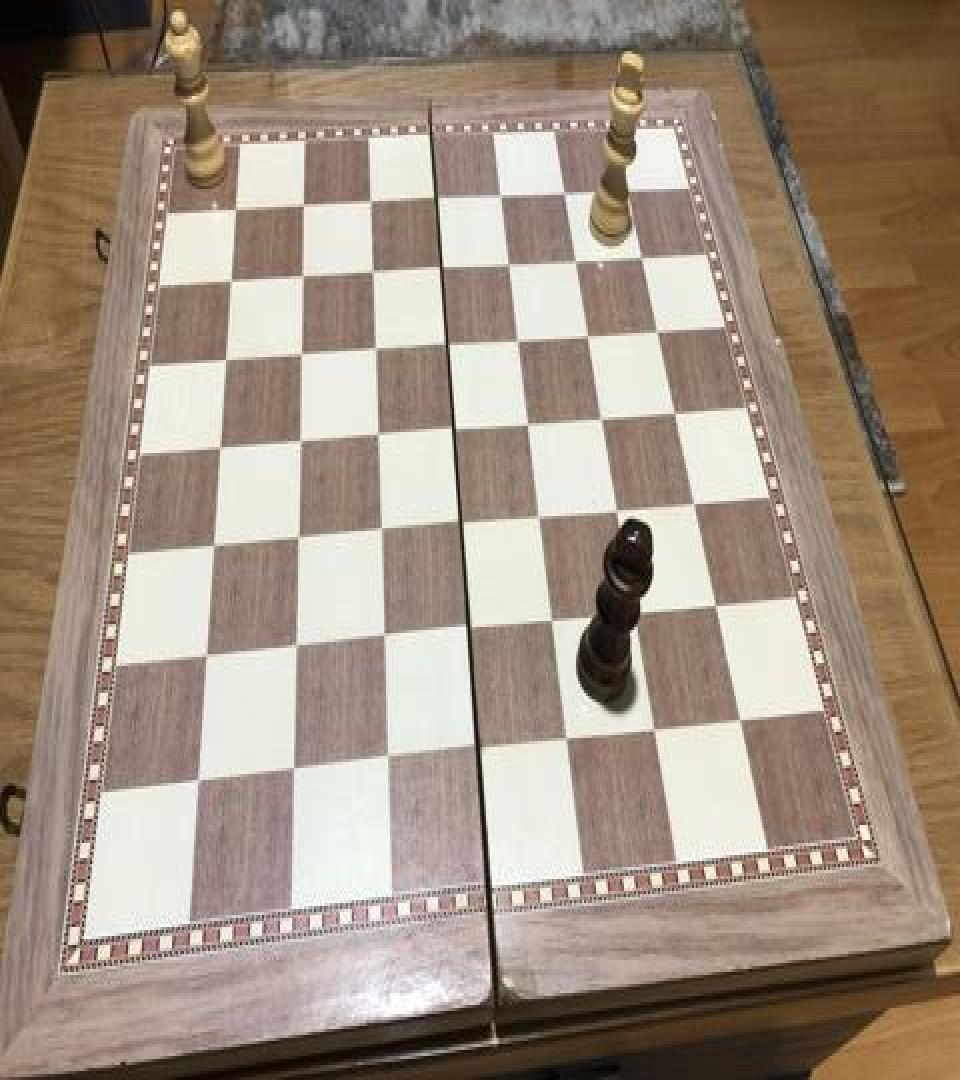xcorner: (704, 586, 728, 623), (457, 610, 481, 647), (194, 637, 218, 674), (552, 176, 576, 212), (488, 178, 512, 214), (423, 182, 447, 218), (357, 184, 381, 220), (222, 190, 246, 226), (629, 240, 653, 276), (563, 243, 587, 279), (496, 246, 520, 282), (428, 250, 452, 286), (359, 254, 383, 290), (289, 258, 313, 294), (218, 262, 242, 298), (645, 314, 669, 350), (576, 318, 600, 354), (506, 322, 530, 358), (434, 327, 458, 363), (362, 332, 386, 368), (288, 336, 312, 372), (213, 340, 237, 376), (663, 394, 687, 430), (590, 400, 614, 436), (516, 405, 540, 441), (441, 411, 465, 447), (365, 417, 389, 453), (287, 423, 311, 459), (207, 429, 231, 465), (682, 484, 706, 520), (606, 492, 630, 528), (528, 498, 552, 534), (449, 506, 473, 542), (368, 512, 392, 548), (285, 519, 309, 555), (201, 526, 225, 562), (623, 594, 647, 630), (541, 603, 565, 639), (371, 620, 395, 656), (283, 628, 307, 664), (729, 700, 753, 736), (643, 711, 667, 747), (556, 720, 580, 756), (466, 730, 490, 766), (375, 741, 399, 777), (281, 752, 305, 788), (186, 762, 210, 798), (615, 173, 639, 208), (290, 188, 314, 223)
